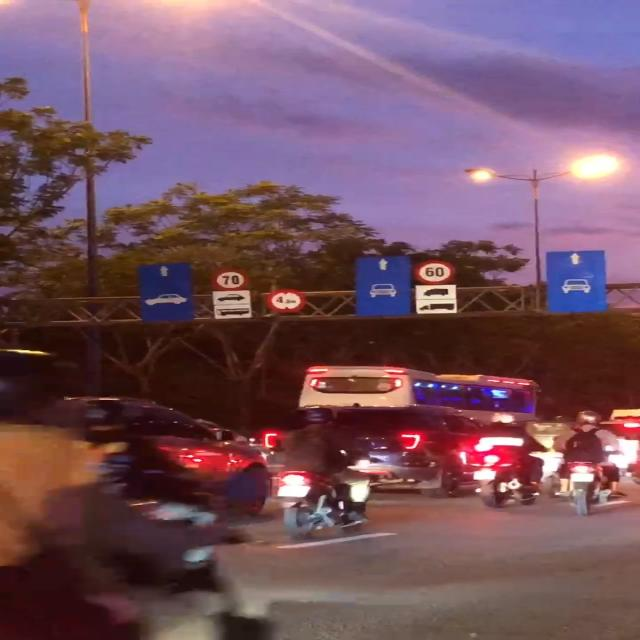Bien bao han che chieu cao: (266, 286, 308, 314)
Bien bao toc do toi da cho phep: (404, 255, 464, 288), (209, 263, 256, 291)
